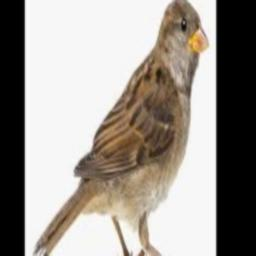Sparrow: (33, 0, 209, 256)
